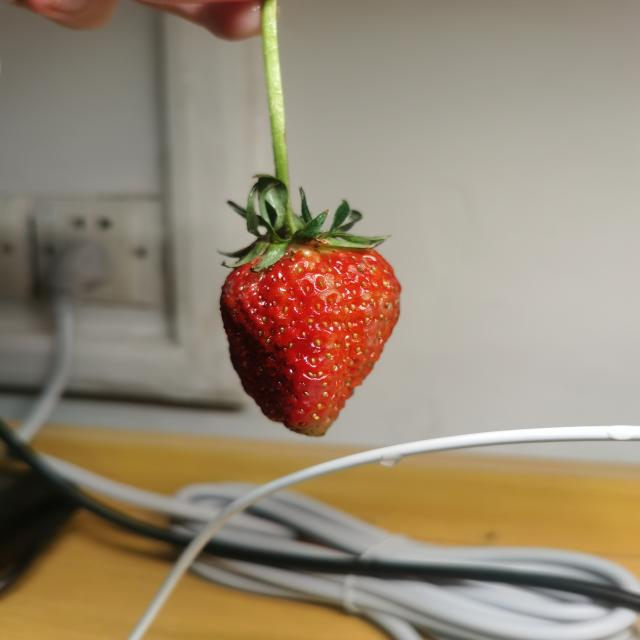stem: (269, 107, 298, 242)
strawberry: (220, 232, 401, 437)
